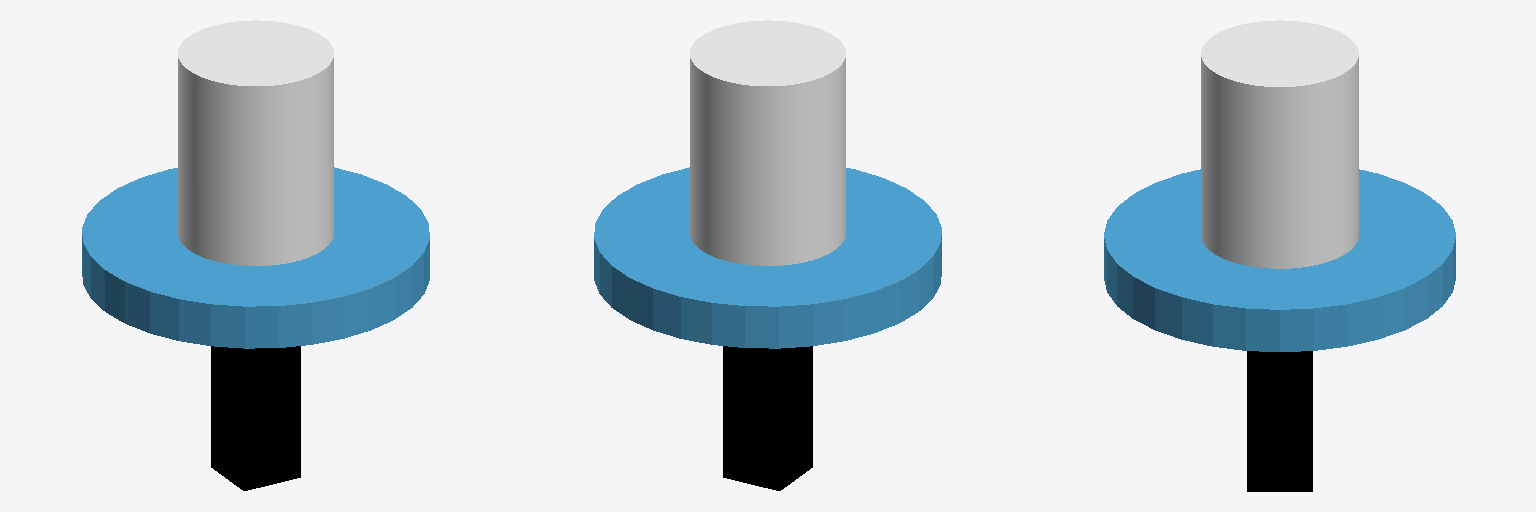
URDF robot description (rot_base):
<?xml version="1.0" ?>
<robot name="rot_base">
  <material name="object_color">
	<color rgba="1 1 1 1"/>
  </material>
  
  <material name="black">
	<color rgba="0 0 0 1"/>
  </material>
  
  <link name="rot_base/base">
	<visual>
		<origin xyz="0 0 0"/>
		<geometry>
			<box size="0.0381 0.0381 0.127"/>
		</geometry>
		<material name="black"/>
	</visual>
	
	<collision>
		<origin xyz="0 0 0"/>
		<geometry>
			<box size="0.0381 0.0381 0.127"/>
		</geometry>
	</collision>
	
	<inertial>
      <origin rpy="0 0 0" xyz="0 0 0"/>
      <mass value="0"/>
      <inertia ixx="0" ixy="0" ixz="0" iyy="0" iyz="0" izz="0"/>
    </inertial>
  </link>
  
  <joint name="base_mount_joint" type="revolute">
    <parent link="rot_base/base"/>
    <child link="rot_base/plate"/>
    <axis xyz="0 0 1"/>
    <limit effort="0" lower="-3.14159265359" upper="3.14159265359" velocity="10"/>
    <origin xyz="0 0 0.07699375"/>
  </joint>
  
  <link name="rot_base/plate">
	<visual>
		<origin xyz="0 0 0"/>
		<geometry>
			<cylinder length="0.0269875" radius="0.1016"/>
		</geometry>
		<material name="white"/>
	</visual>
	
	<collision>
		<origin xyz="0 0 0"/>
		<geometry>
			<cylinder length="0.0269875" radius="0.1016"/>
		</geometry>
	</collision>
	
	<inertial>
      <origin rpy="0 0 1.5707963267948966" xyz="-0.0354389000 -0.0033586100 0.0253408000"/>
      <mass value="1"/>
      <inertia ixx="0.0033530000" ixy="-0.0001246000" ixz="0.0000110600" iyy="0.0013570000" iyz="0.0002103000" izz="0.0041110000"/>
    </inertial>
  </link>
  
  <joint name="object_plate_joint" type="fixed">
    <parent link="rot_base/plate"/>
    <child link="rot_base/object"/>
    <origin xyz="0 0 0.01349375"/>
  </joint>
  
  <link name="rot_base/object">
    <visual>
      <origin rpy="0 0 1.5707963267948966" xyz="0 0 0"/>
      <geometry>
        <mesh filename="package://data/sim/meshes/object_exp.stl" scale="0.001 0.001 0.001"/>
      </geometry>
      <material name="object_color"/>
    </visual>
	
    <collision>
      <origin rpy="0 0 1.5707963267948966" xyz="0 0 0"/>
      <geometry>
        <mesh filename="package://data/sim/meshes/object_exp.stl" scale="0.001 0.001 0.001"/>
      </geometry>
    </collision>
	
    <inertial>
      <origin rpy="0 0 0" xyz="0 0 0"/>
      <mass value="0.05"/>
      <inertia ixx="0.0" ixy="0.0" ixz="0.0" iyy="0.0" iyz="0.0" izz="0.0"/>
    </inertial>
  </link>
  
</robot>

--- What the picture shows (computed from the rendered views, not written in the file) ---
The picture shows the robot from 3 angles, left to right: view 1: azimuth 30°, elevation 25°; view 2: azimuth 150°, elevation 25°; view 3: azimuth 270°, elevation 25°; orthographic projection.
Robot: rot_base — 3 links, 2 joints (1 revolute, 1 fixed); root link rot_base/base; default pose: every joint at zero.
Links seen in each view (by area): view 1: rot_base/plate, rot_base/object, rot_base/base; view 2: rot_base/plate, rot_base/object, rot_base/base; view 3: rot_base/plate, rot_base/object, rot_base/base.
Link boxes in pixels (x1,y1,x2,y2): rot_base/plate: [82, 167, 429, 348]; rot_base/object: [178, 20, 333, 265]; rot_base/base: [211, 346, 300, 490]; rot_base/plate: [594, 167, 941, 348]; rot_base/object: [690, 20, 845, 265]; rot_base/base: [723, 346, 812, 490]; rot_base/plate: [1104, 169, 1455, 351]; rot_base/object: [1201, 20, 1358, 268]; rot_base/base: [1247, 351, 1312, 491].
Size in the robot's own frame: 0.2032 by 0.2032 by 0.2695 metres.
Meshes: 1 distinct files referenced, 1 mesh visuals loaded (1 binary STL).